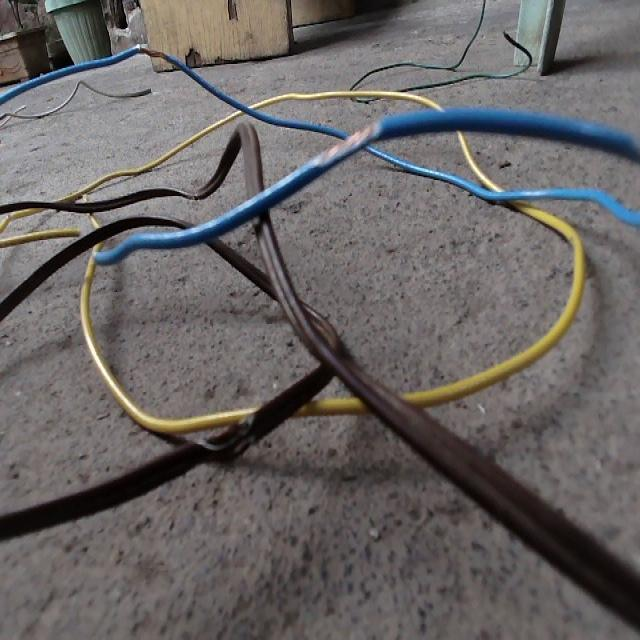-: (318, 120, 380, 163)
